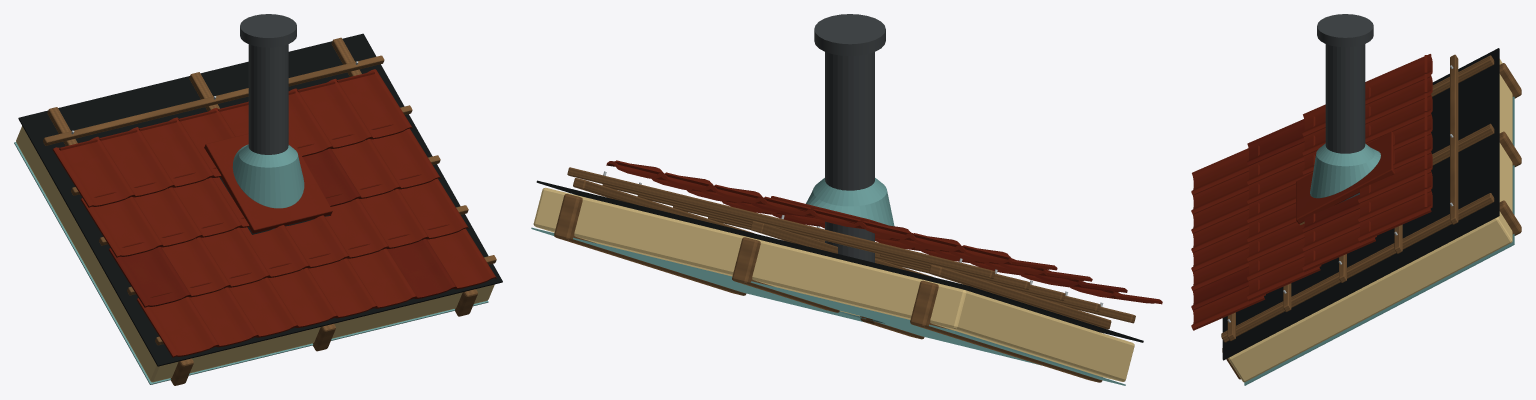
Rendered from modell.glb.
3 renders of one model, left to right at view 1: azimuth 30°, elevation 25°; view 2: azimuth 150°, elevation 25°; view 3: azimuth 270°, elevation 25°, orthographic. The views are drawn at different scales.
Parts seen in each view (by area): view 1: s11-deckziegel_deckung, s11-zusatzebene_zusatzebene, s11-daemmung_daemmung, s11-deckziegel_deckung.001, s11-rohr_, s11-lattung_lattung, s11-formteil_deckung, s11-formteil_deckung.001, s11-luftdichtheit_luftdichtheit, s11-sparren_tragwerk; view 2: s11-daemmung_daemmung, s11-lattung_lattung, s11-rohr_, s11-deckziegel_deckung, s11-sparren_tragwerk, s11-luftdichtheit_luftdichtheit, s11-zusatzebene_zusatzebene, s11-formteil_deckung.001, s11-deckziegel_deckung.001; view 3: s11-deckziegel_deckung, s11-zusatzebene_zusatzebene, s11-daemmung_daemmung, s11-lattung_lattung, s11-rohr_, s11-deckziegel_deckung.001, s11-formteil_deckung.001, s11-formteil_deckung, s11-luftdichtheit_luftdichtheit, s11-sparren_tragwerk.
Part boxes in pixels (bbox=[...]): s11-deckziegel_deckung: bbox=[52, 69, 496, 357]; s11-zusatzebene_zusatzebene: bbox=[18, 33, 502, 366]; s11-daemmung_daemmung: bbox=[16, 126, 494, 382]; s11-deckziegel_deckung.001: bbox=[109, 148, 456, 307]; s11-rohr_: bbox=[240, 14, 296, 229]; s11-lattung_lattung: bbox=[43, 37, 496, 345]; s11-formteil_deckung: bbox=[204, 133, 332, 233]; s11-formteil_deckung.001: bbox=[232, 144, 304, 208]; s11-luftdichtheit_luftdichtheit: bbox=[14, 142, 488, 384]; s11-sparren_tragwerk: bbox=[170, 289, 477, 385]; s11-daemmung_daemmung: bbox=[533, 187, 1134, 381]; s11-lattung_lattung: bbox=[567, 167, 1135, 329]; s11-rohr_: bbox=[814, 14, 885, 262]; s11-deckziegel_deckung: bbox=[606, 160, 1162, 304]; s11-sparren_tragwerk: bbox=[554, 194, 1102, 382]; s11-luftdichtheit_luftdichtheit: bbox=[531, 227, 1125, 385]; s11-zusatzebene_zusatzebene: bbox=[536, 180, 1143, 342]; s11-formteil_deckung.001: bbox=[806, 178, 894, 226]; s11-deckziegel_deckung.001: bbox=[751, 203, 1127, 292]; s11-deckziegel_deckung: bbox=[1191, 54, 1432, 330]; s11-zusatzebene_zusatzebene: bbox=[1222, 48, 1499, 360]; s11-daemmung_daemmung: bbox=[1228, 59, 1512, 382]; s11-lattung_lattung: bbox=[1221, 54, 1494, 342]; s11-rohr_: bbox=[1317, 14, 1373, 202]; s11-deckziegel_deckung.001: bbox=[1191, 119, 1359, 310]; s11-formteil_deckung.001: bbox=[1310, 143, 1380, 198]; s11-formteil_deckung: bbox=[1296, 131, 1394, 223]; s11-luftdichtheit_luftdichtheit: bbox=[1244, 96, 1514, 385]; s11-sparren_tragwerk: bbox=[1222, 63, 1521, 379].
Size of the model in its own units: 2.09 by 1.65 by 1.75.
Materials: 8 (3 with a texture image).
